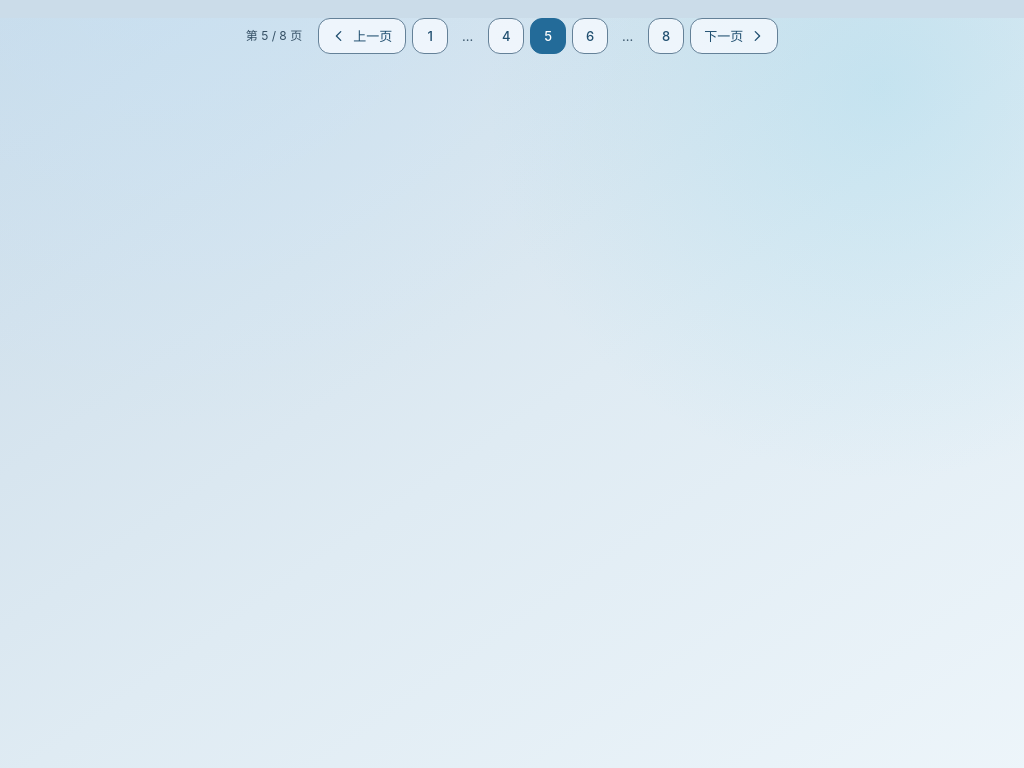
Scenario: FeaturePagination › keeps the current page selected and reports the next page
Expected: the text "第 5 / 8 页" is shown, [246,28,302,44]
Expected: the button "1" is shown, [412,18,448,54]
Click the button "6".
click(590, 36)  # box [572,18,608,54]
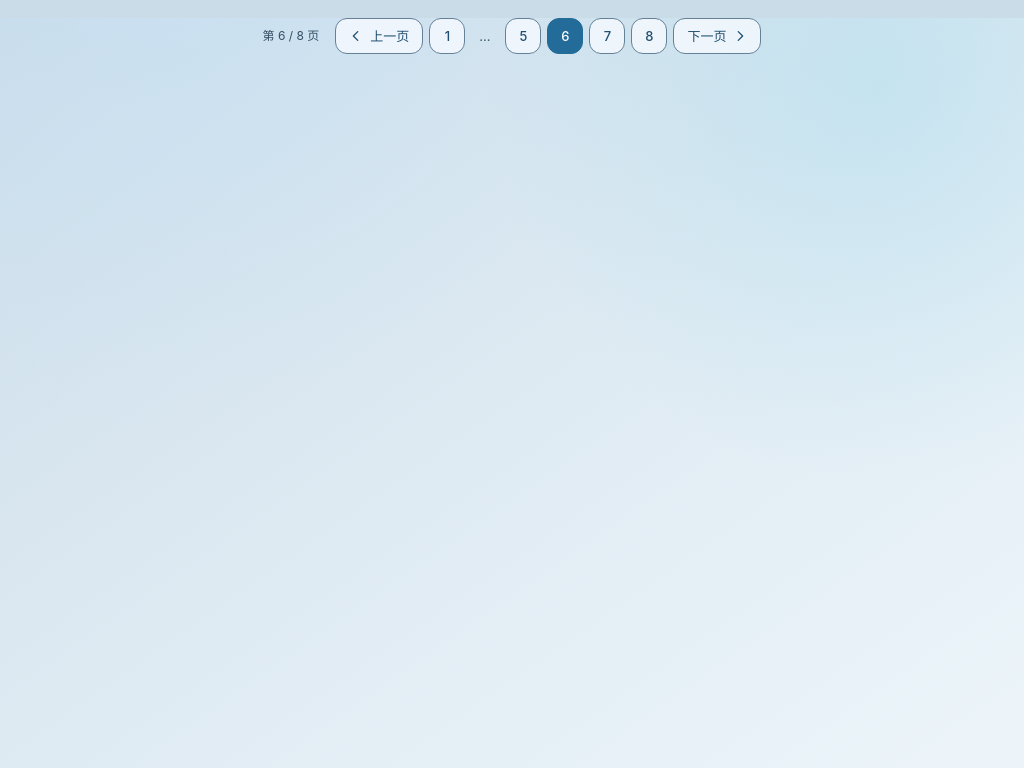
Now the text "第 6 / 8 页" is shown, box [263,28,319,44]
